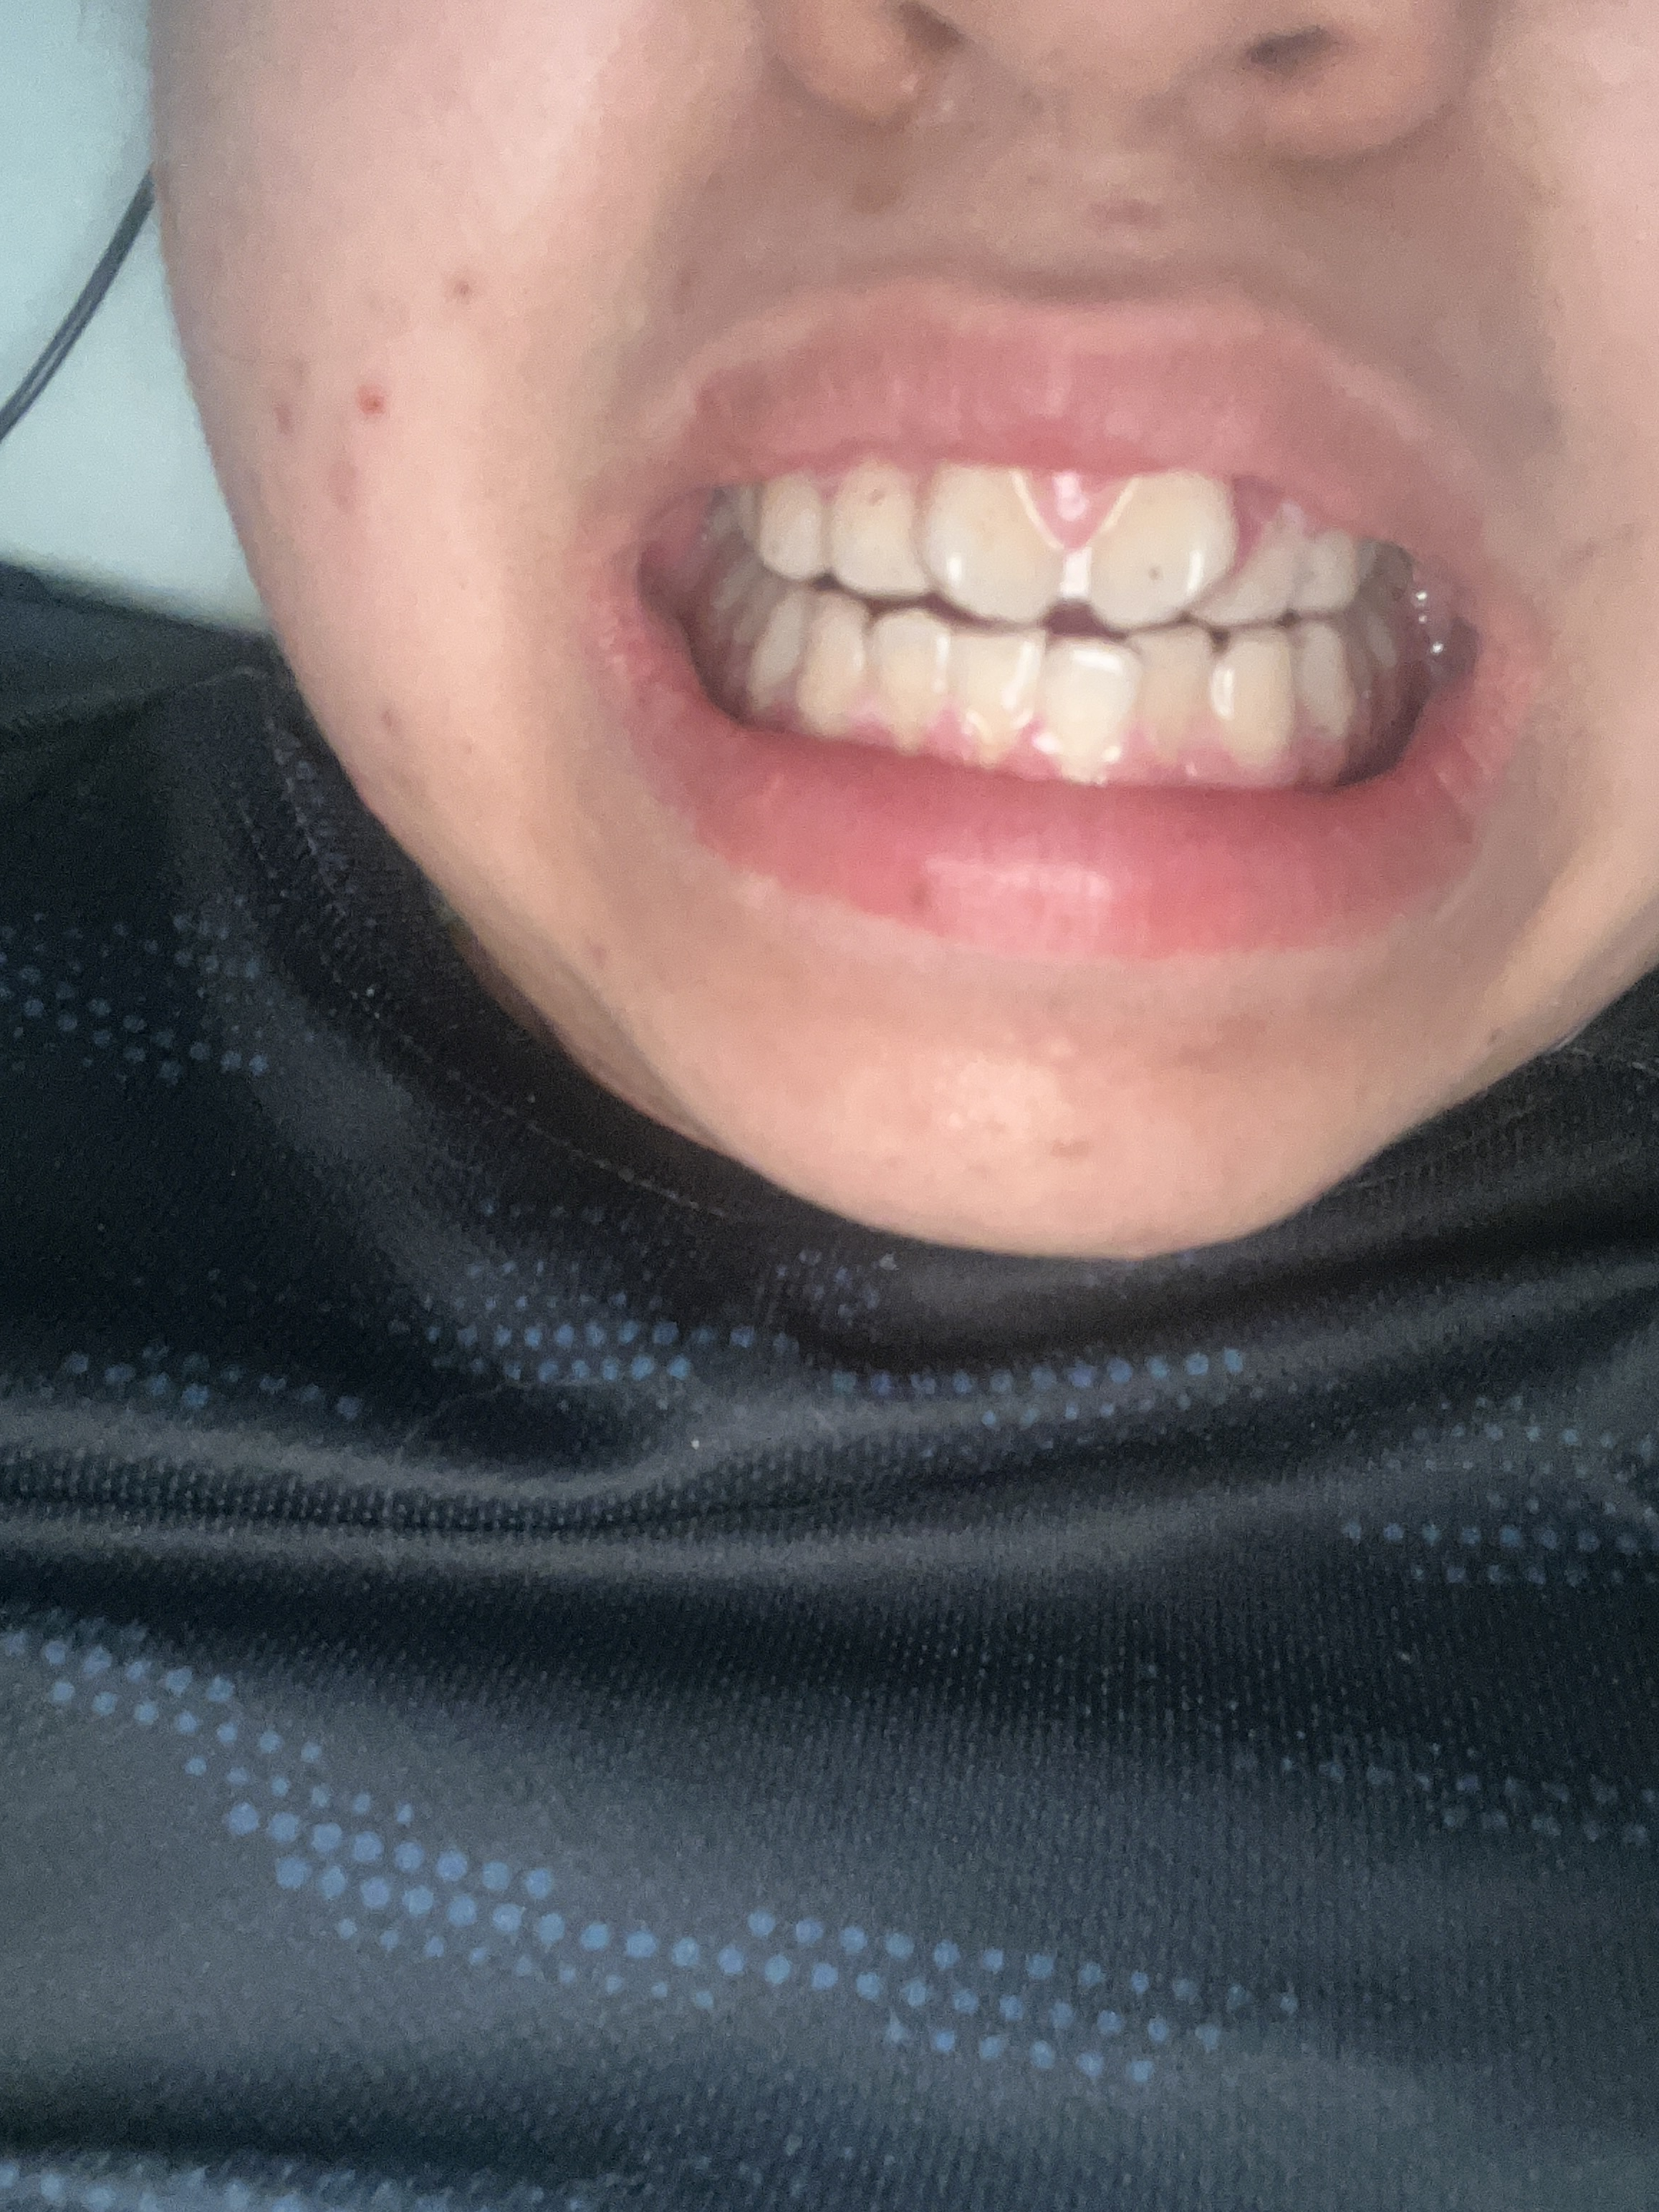teeth: (1089, 477, 1230, 634), (929, 472, 1060, 622), (1042, 641, 1143, 773), (829, 462, 924, 589), (1213, 526, 1293, 629), (962, 636, 1042, 732), (1143, 639, 1206, 754), (882, 624, 943, 740), (793, 606, 868, 698), (1248, 643, 1288, 756)
